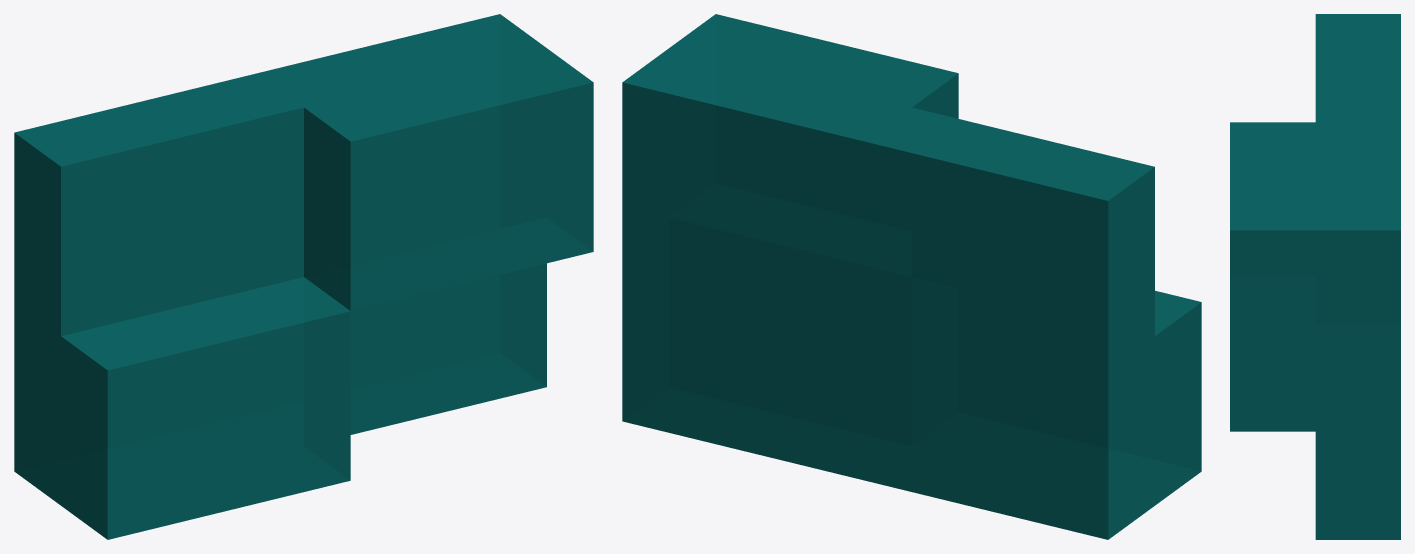
The picture shows the model from 3 angles, left to right: view 1: azimuth 30°, elevation 25°; view 2: azimuth 150°, elevation 25°; view 3: azimuth 270°, elevation 25°; orthographic projection. The views are drawn at different scales.
Visible parts, largest first — view 1: SketchUp; view 2: SketchUp; view 3: SketchUp.
Part boxes in pixels (left/top/right/bottom): SketchUp: left=14, top=14, right=593, bottom=539; SketchUp: left=622, top=14, right=1201, bottom=539; SketchUp: left=1230, top=14, right=1400, bottom=539.
Bounding box in the file's own units: 236 × 78.74 × 157.
